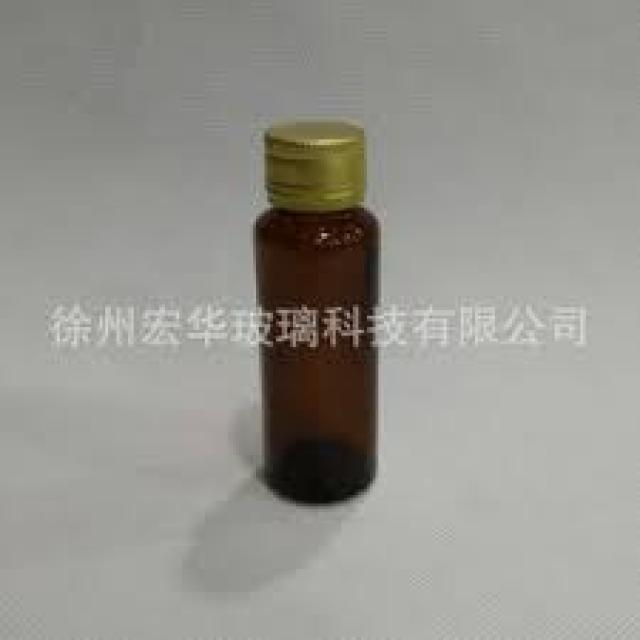Glass: (255, 209, 378, 508)
